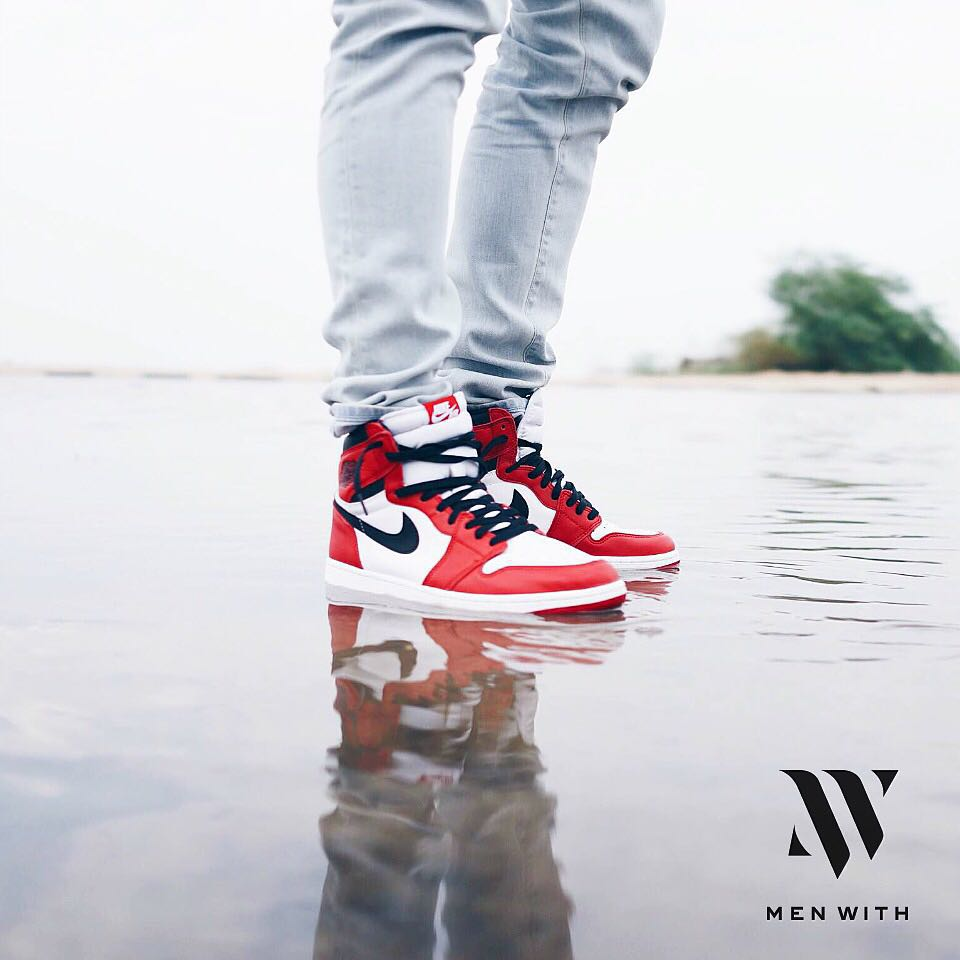sneaker: (310, 371, 632, 635), (446, 361, 701, 583)
